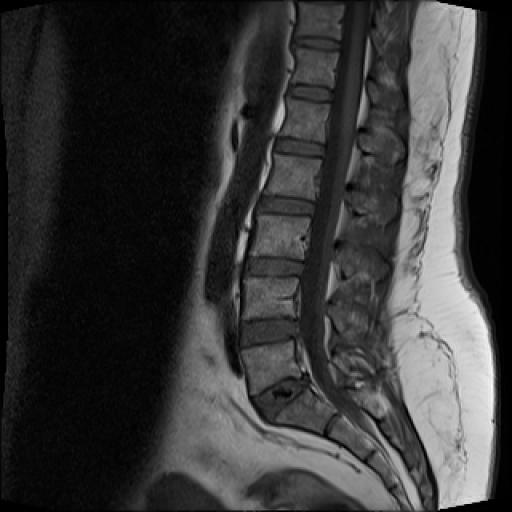L1: (280, 98, 330, 142)
L2: (265, 153, 321, 200)
L3: (252, 216, 310, 260)
L4: (242, 277, 299, 320)
L5: (241, 339, 301, 396)
S1: (275, 388, 335, 434)
